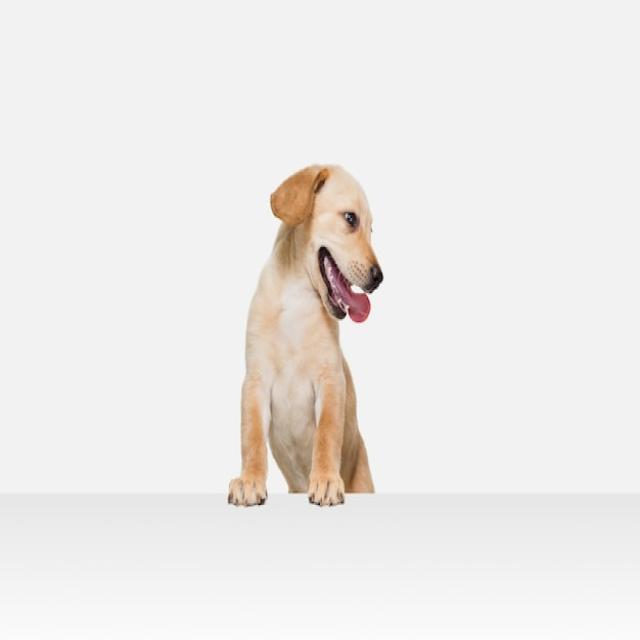Dog: (225, 165, 382, 505)
